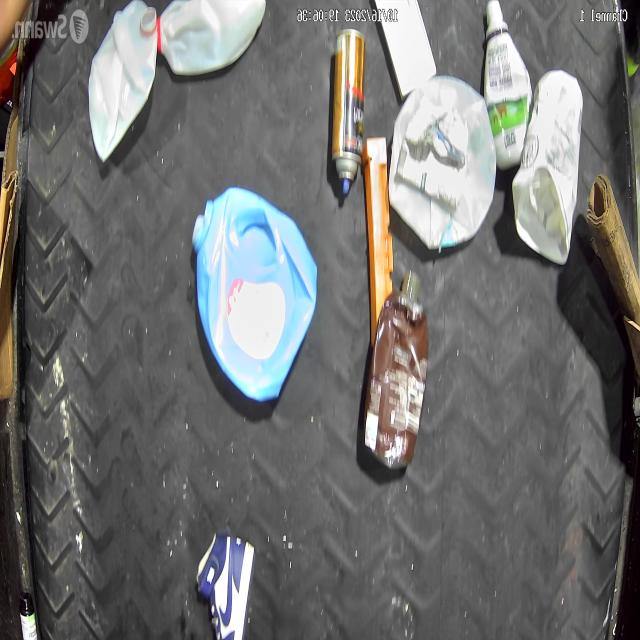can: (329, 29, 364, 198)
milk_jug: (387, 74, 497, 250), (511, 68, 584, 264), (86, 0, 158, 162), (156, 0, 267, 79)
non_white_jug: (190, 186, 318, 404)
plastic_bottle: (363, 270, 429, 472)
